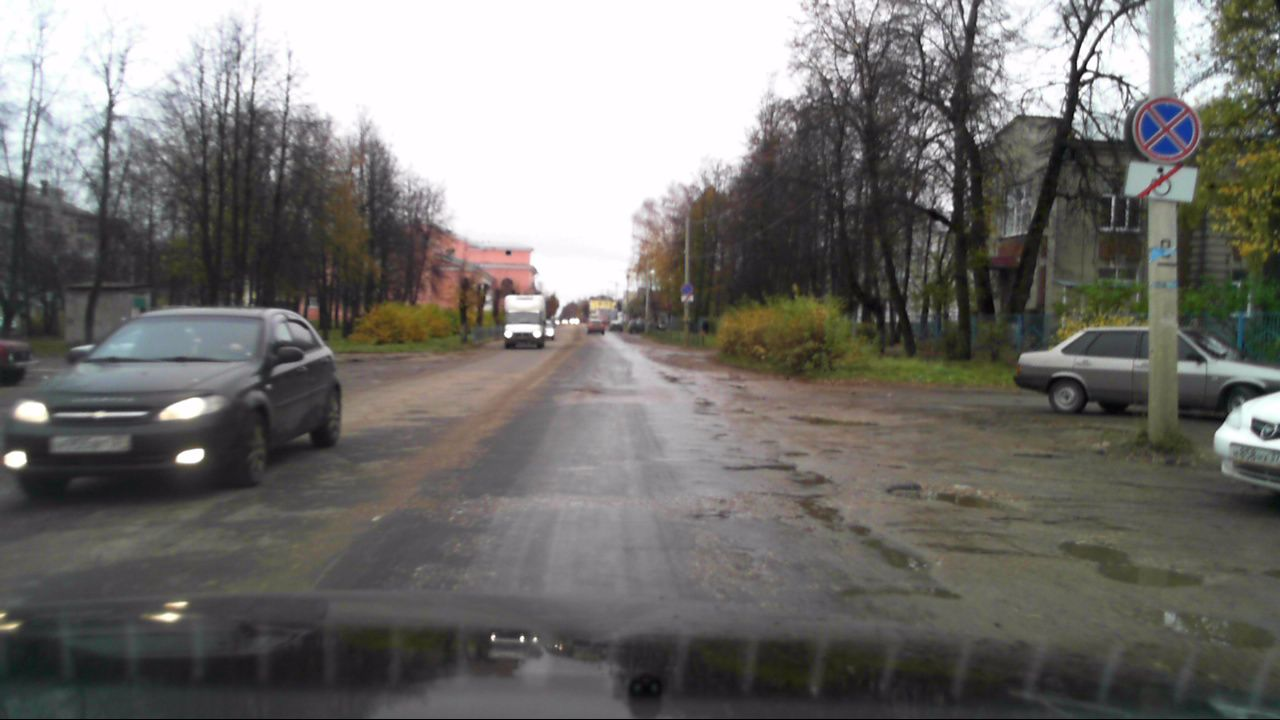No Parking: (1133, 96, 1202, 161)
